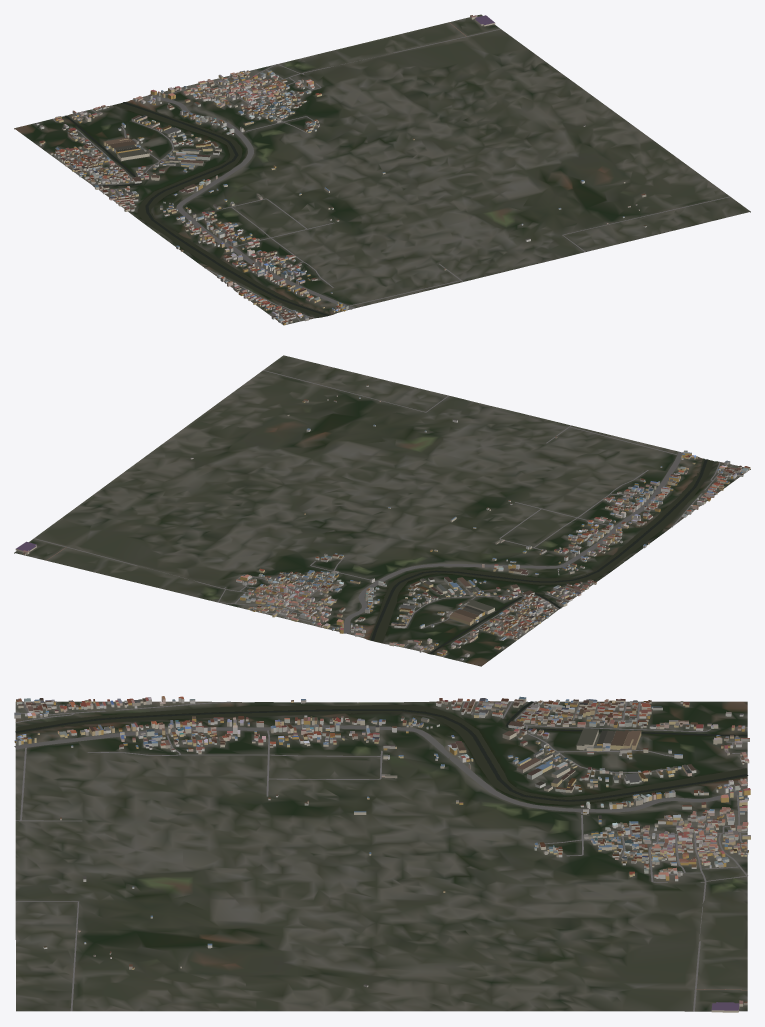
3 renders of one model, top to bottom at view 1: azimuth 30°, elevation 25°; view 2: azimuth 150°, elevation 25°; view 3: azimuth 270°, elevation 25°, orthographic. The views are drawn at different scales.
Visible parts, largest first — view 1: ground, buildings, water, roads; view 2: ground, buildings, water, roads; view 3: ground, buildings, water, roads.
Boxes of the visible parts, left/top/right/bottom form: ground: left=14, top=14, right=750, bottom=325; buildings: left=36, top=15, right=646, bottom=325; water: left=65, top=102, right=330, bottom=317; roads: left=52, top=22, right=730, bottom=323; ground: left=14, top=355, right=750, bottom=666; buildings: left=15, top=384, right=750, bottom=660; water: left=369, top=458, right=713, bottom=654; roads: left=34, top=370, right=748, bottom=656; ground: left=15, top=701, right=747, bottom=1011; buildings: left=14, top=696, right=750, bottom=1012; water: left=15, top=701, right=748, bottom=804; roads: left=14, top=701, right=747, bottom=1011.
Bounding box in the file's own units: 1413 × 19.72 × 1412.
